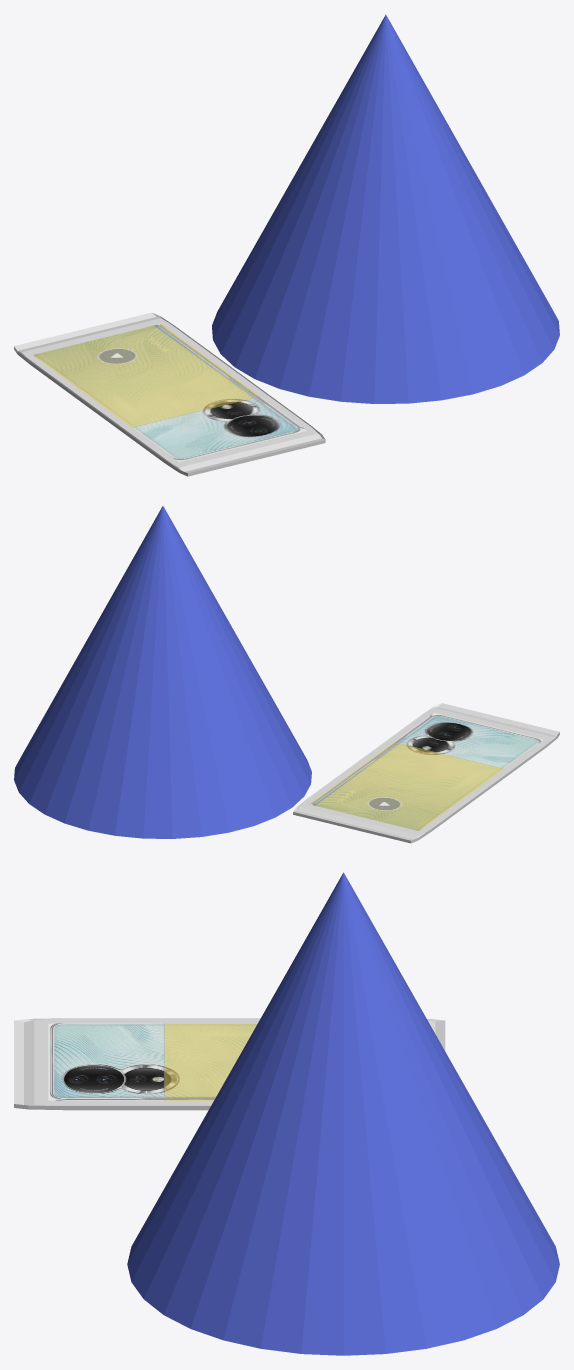
The model's file is blue.glb.
3 renders of one model, top to bottom at view 1: azimuth 30°, elevation 25°; view 2: azimuth 150°, elevation 25°; view 3: azimuth 270°, elevation 25°, orthographic. The views are drawn at different scales.
Parts seen in each view (by area): view 1: 锥体, Cube; view 2: 锥体, Cube; view 3: 锥体, Cube.
Boxes of the visible parts, bbox=[...] form: 锥体: bbox=[212, 14, 559, 403]; Cube: bbox=[14, 312, 325, 476]; 锥体: bbox=[14, 506, 311, 838]; Cube: bbox=[293, 703, 559, 843]; 锥体: bbox=[127, 872, 559, 1355]; Cube: bbox=[14, 1018, 445, 1110].
Bounding box in the file's own units: 3.21 × 2 × 2.52.
Materials: 3 (1 with a texture image).
